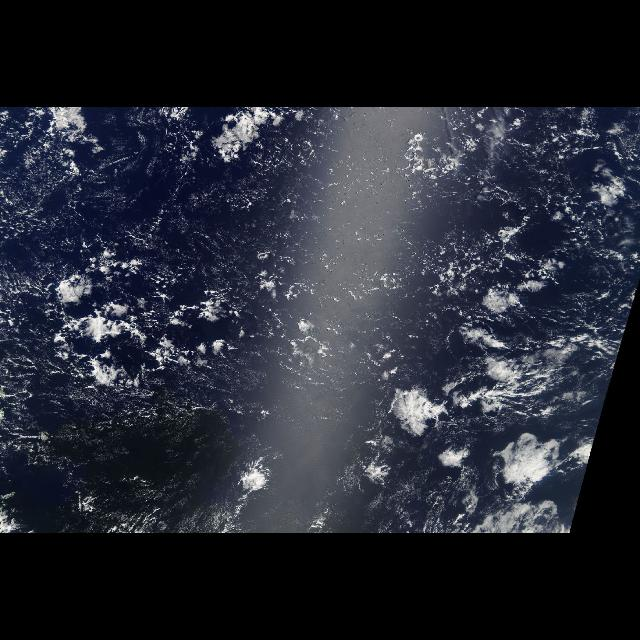Gravel: (2, 250, 274, 412), (402, 134, 618, 318)
Sugar: (7, 160, 406, 430)
